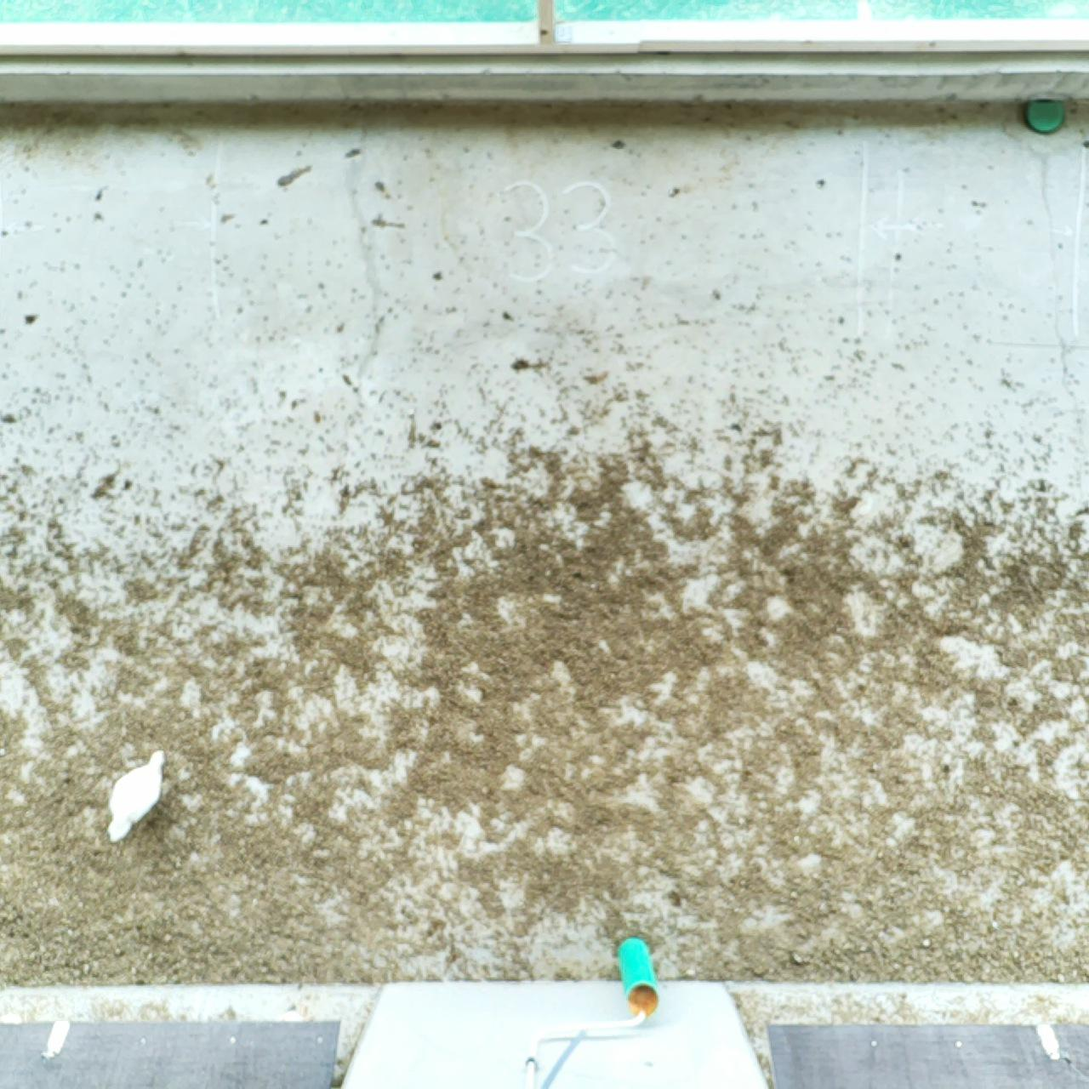chicken: (103, 747, 171, 847)
